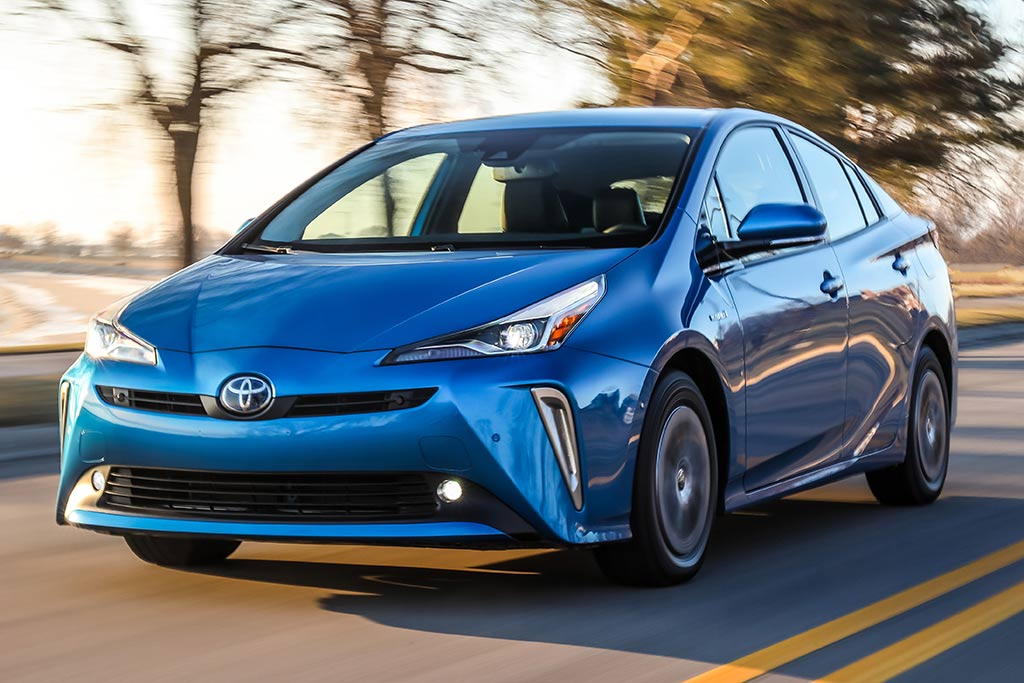Toyota Prius: (54, 109, 958, 585)
